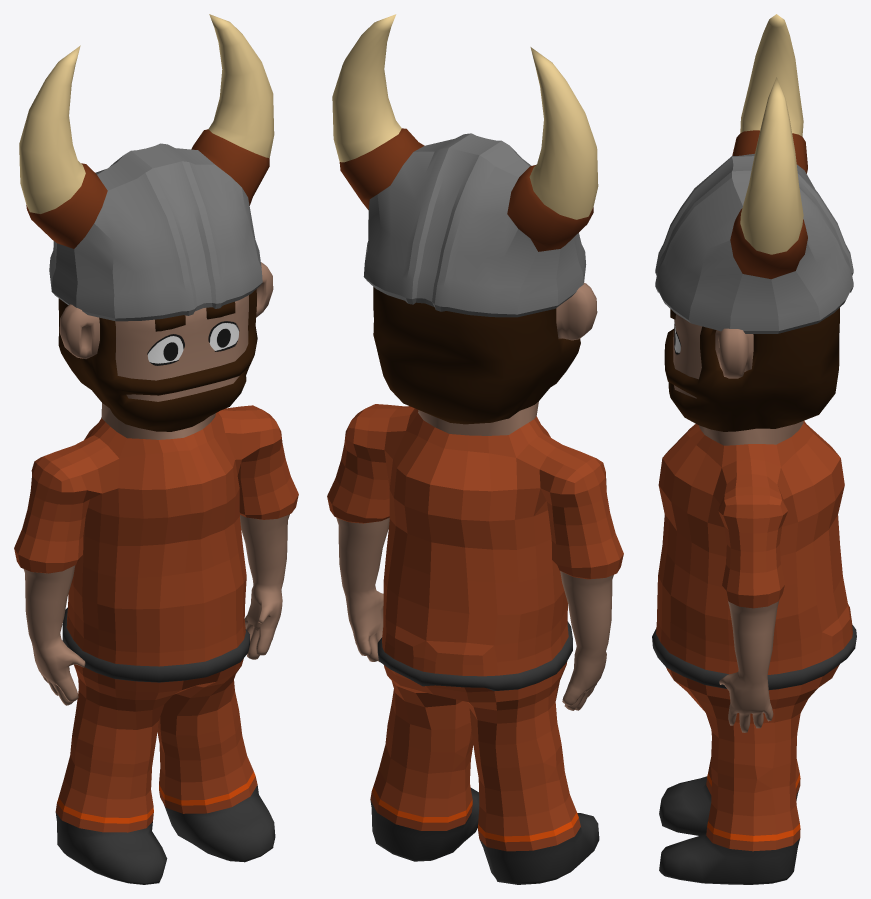
The model's file is NPC_Gustavar_Model.fbx.
3 renders of one model, left to right at view 1: azimuth 30°, elevation 25°; view 2: azimuth 150°, elevation 25°; view 3: azimuth 270°, elevation 25°, orthographic. The views are drawn at different scales.
Parts seen in each view (by area): view 1: Roupa_Gustavar, Elmo_Base_Gustavar, Gustavar_Pele, Elmo_Chifre_Gustavar, Couro_Escuro_Gustavar, Cabelo_Gustar, Elmo_BaseChifres_Gustavar; view 2: Roupa_Gustavar, Elmo_Base_Gustavar, Cabelo_Gustar, Elmo_Chifre_Gustavar, Gustavar_Pele, Couro_Escuro_Gustavar, Elmo_BaseChifres_Gustavar; view 3: Roupa_Gustavar, Elmo_Base_Gustavar, Cabelo_Gustar, Elmo_Chifre_Gustavar, Couro_Escuro_Gustavar, Gustavar_Pele, Elmo_BaseChifres_Gustavar.
Part boxes in pixels (x1=…): Roupa_Gustavar: x1=14, y1=405, x2=298, y2=832; Elmo_Base_Gustavar: x1=49, y1=143, x2=262, y2=321; Gustavar_Pele: x1=23, y1=262, x2=289, y2=705; Elmo_Chifre_Gustavar: x1=19, y1=14, x2=274, y2=213; Couro_Escuro_Gustavar: x1=55, y1=607, x2=275, y2=884; Cabelo_Gustar: x1=58, y1=289, x2=257, y2=431; Elmo_BaseChifres_Gustavar: x1=26, y1=129, x2=269, y2=248; Roupa_Gustavar: x1=327, y1=404, x2=623, y2=851; Elmo_Base_Gustavar: x1=363, y1=133, x2=586, y2=317; Cabelo_Gustar: x1=373, y1=287, x2=580, y2=424; Elmo_Chifre_Gustavar: x1=332, y1=14, x2=598, y2=219; Gustavar_Pele: x1=336, y1=282, x2=613, y2=710; Couro_Escuro_Gustavar: x1=370, y1=621, x2=599, y2=884; Elmo_BaseChifres_Gustavar: x1=339, y1=128, x2=593, y2=251; Roupa_Gustavar: x1=656, y1=421, x2=852, y2=851; Elmo_Base_Gustavar: x1=655, y1=153, x2=853, y2=333; Cabelo_Gustar: x1=664, y1=308, x2=839, y2=431; Elmo_Chifre_Gustavar: x1=740, y1=14, x2=803, y2=254; Couro_Escuro_Gustavar: x1=652, y1=625, x2=856, y2=884; Gustavar_Pele: x1=673, y1=314, x2=803, y2=732; Elmo_BaseChifres_Gustavar: x1=730, y1=130, x2=807, y2=279.
Bounding box in the file's own units: 157 × 436 × 100.
